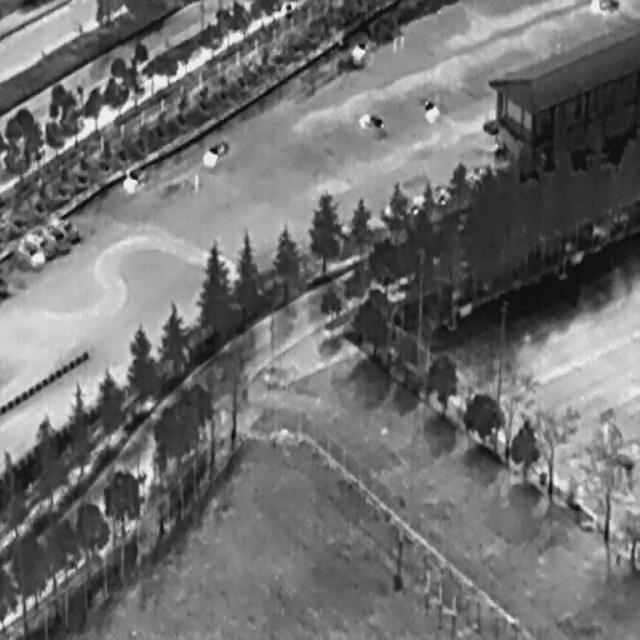Car: (355, 102, 389, 146), (24, 222, 58, 262), (16, 234, 48, 276), (196, 135, 230, 173), (41, 220, 72, 260), (346, 32, 374, 66), (53, 212, 81, 246), (122, 168, 146, 196), (423, 98, 439, 122)
Person: (191, 171, 199, 191), (392, 32, 398, 52), (398, 34, 404, 48)
